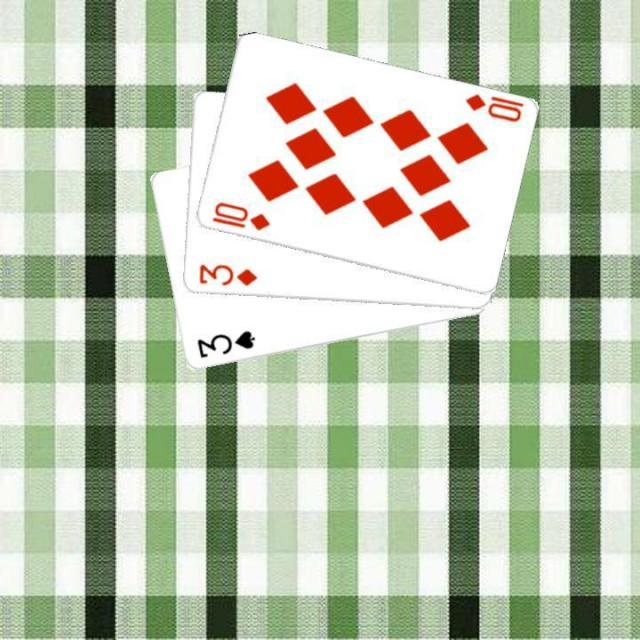10D: (461, 90, 526, 124), (208, 198, 271, 232)
3D: (195, 260, 259, 288)
3S: (193, 327, 257, 361)
